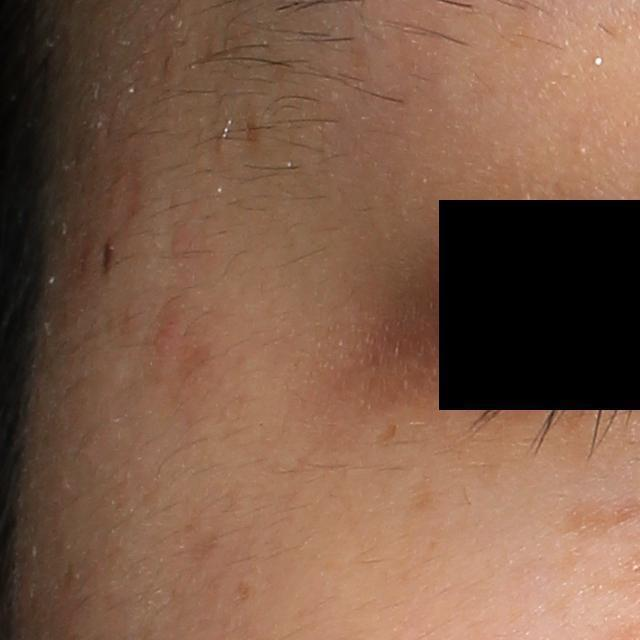melasma: (403, 473, 435, 516), (375, 424, 398, 451)
nevus: (100, 238, 119, 286)
papule: (152, 327, 178, 356)
